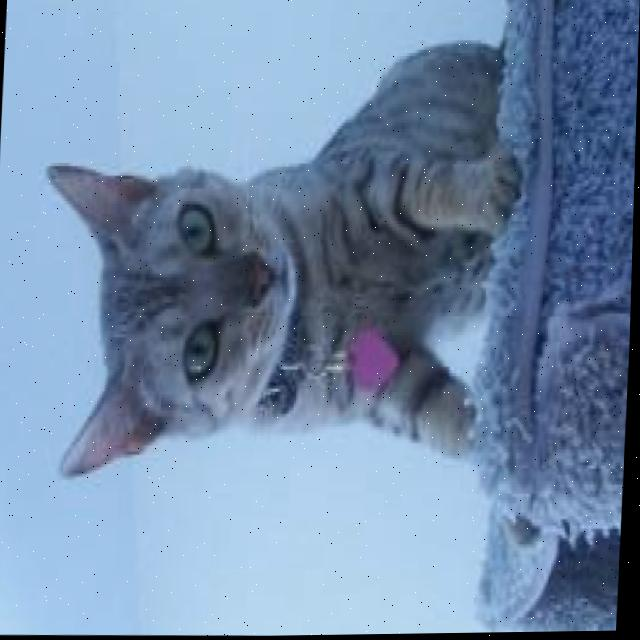Bengal: (20, 34, 533, 503)
